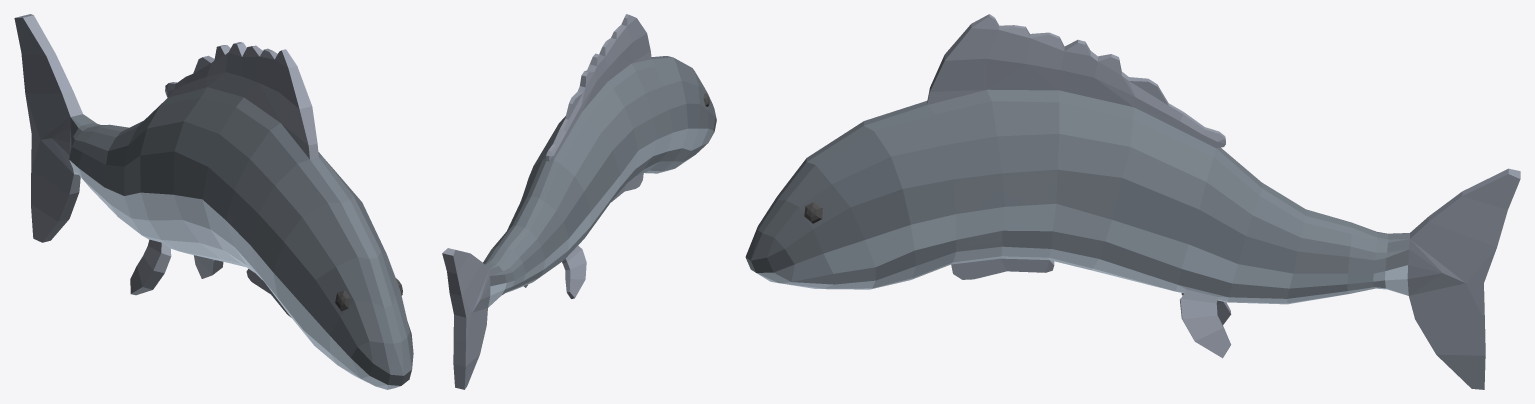
The model's file is fish06.fbx.
3 renders of one model, left to right at view 1: azimuth 30°, elevation 25°; view 2: azimuth 150°, elevation 25°; view 3: azimuth 270°, elevation 25°, orthographic. The views are drawn at different scales.
Parts seen in each view (by area): view 1: fish06; view 2: fish06; view 3: fish06.
Part boxes in pixels (x1,y1,x2,y2): fish06: (14,14,413,389); fish06: (442,14,716,389); fish06: (745,14,1520,389).
Bounding box in the file's own units: 16.67 × 110 × 58.19.
